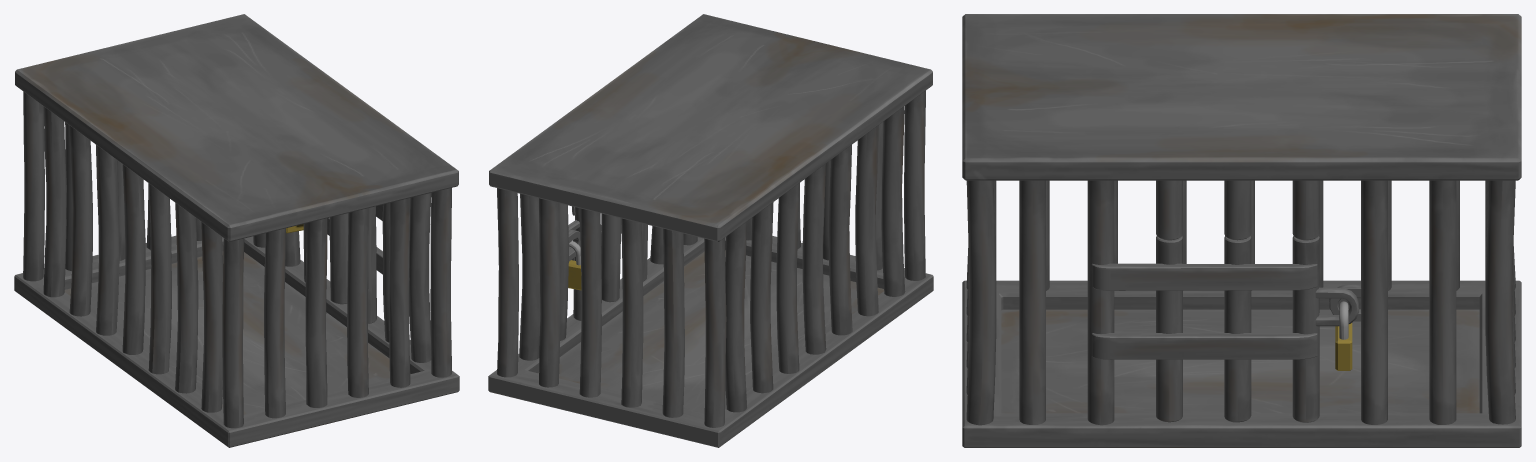
Rendered from big_cage_closed.fbx.
The picture shows the model from 3 angles, left to right: view 1: azimuth 30°, elevation 25°; view 2: azimuth 150°, elevation 25°; view 3: azimuth 270°, elevation 25°; orthographic projection. The views are drawn at different scales.
Visible parts, largest first — view 1: big cage closed; view 2: big cage closed; view 3: big cage closed.
Part boxes in pixels (<box>): big cage closed: <box>14,14,459,447</box>; big cage closed: <box>488,14,933,447</box>; big cage closed: <box>962,14,1521,447</box>.
Size of the model in its own units: 2497 by 2279 by 3994.
Materials: 1 (1 with a texture image).
